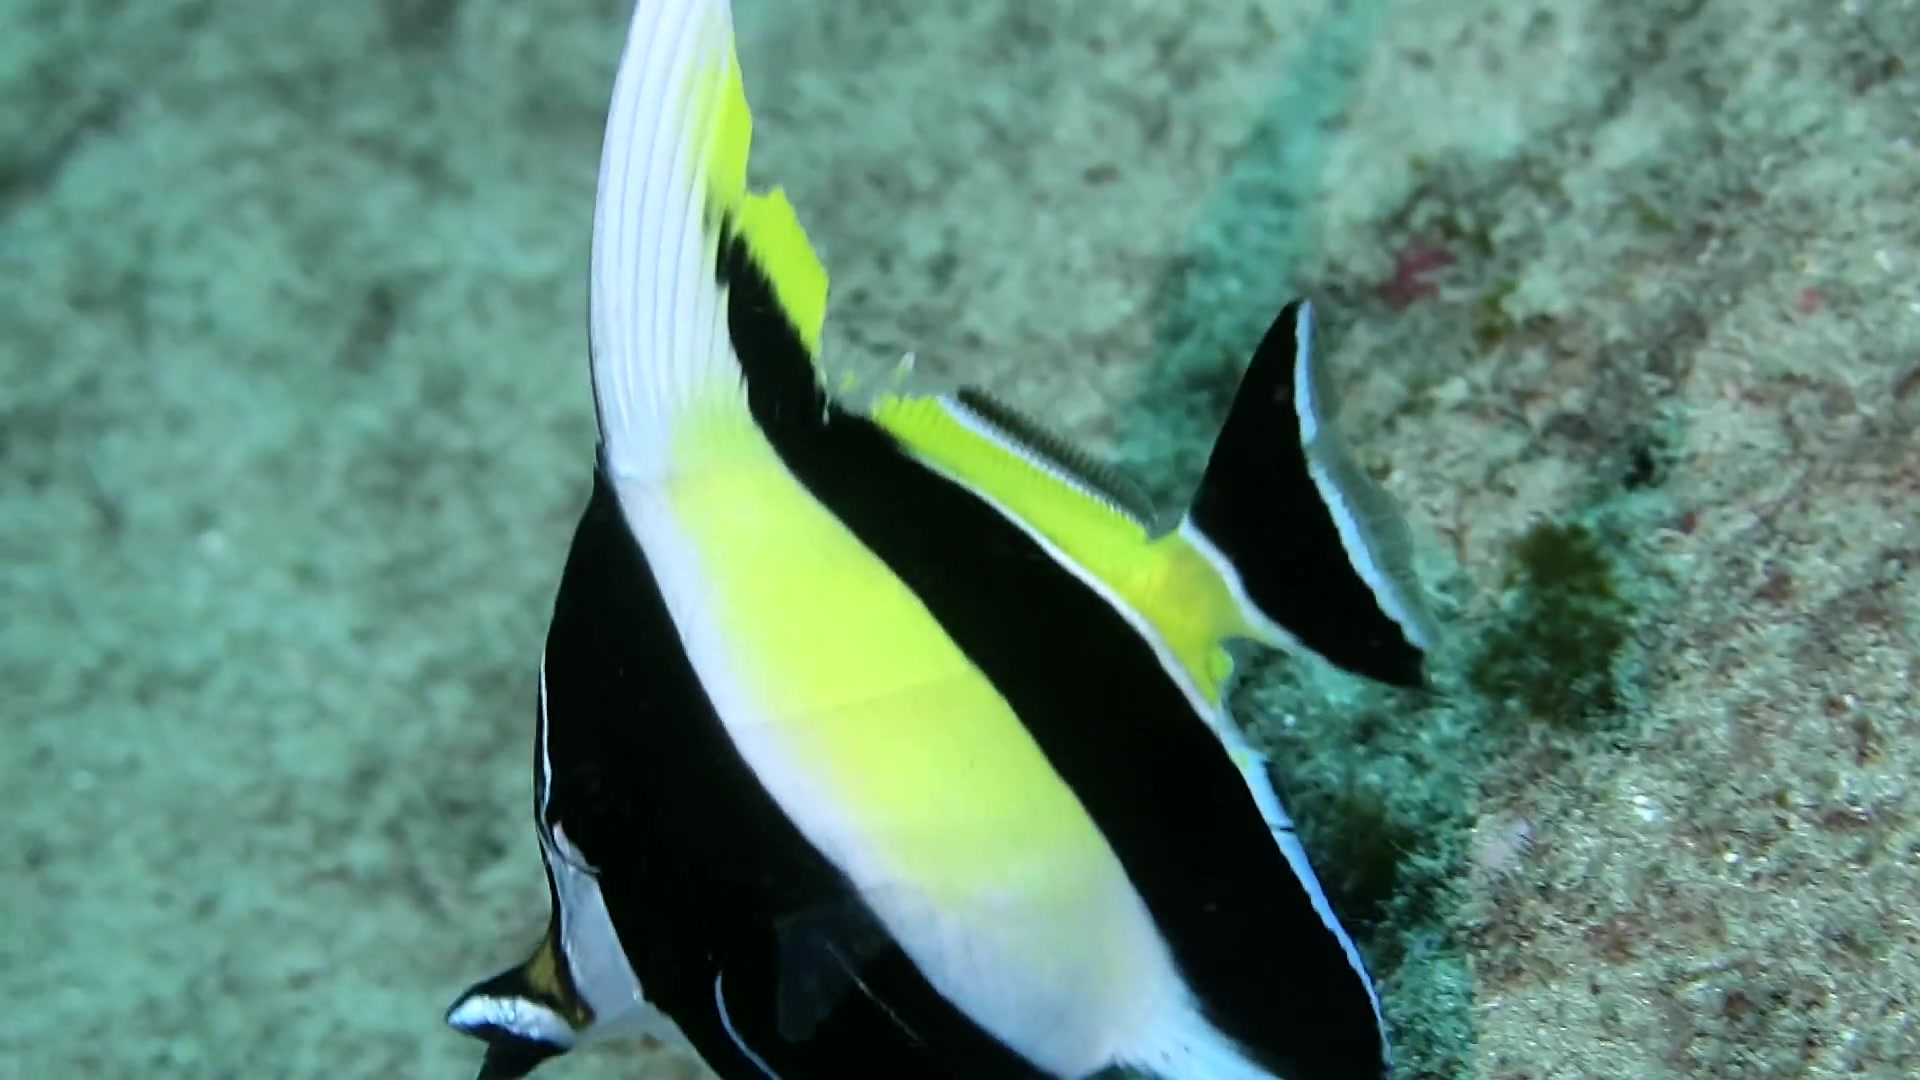Zanclus cornutus: (425, 264, 1428, 1080)
